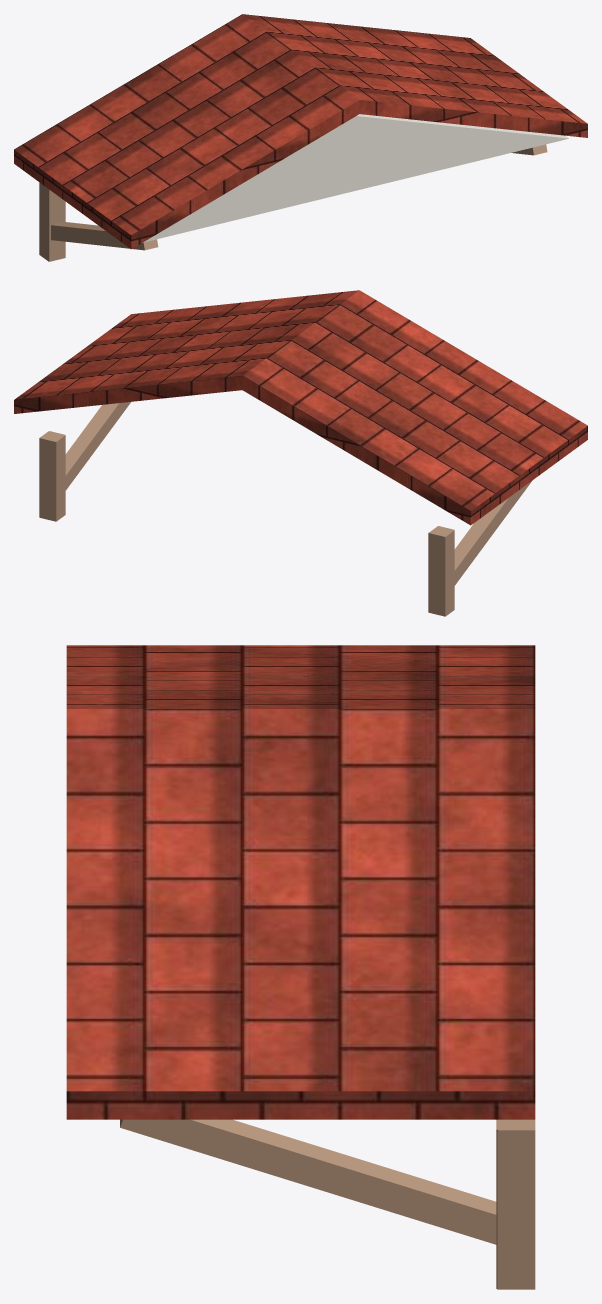
The model's file is entry_hood.glb.
The picture shows the model from 3 angles, top to bottom: view 1: azimuth 30°, elevation 25°; view 2: azimuth 150°, elevation 25°; view 3: azimuth 270°, elevation 25°; orthographic projection. The views are drawn at different scales.
Parts seen in each view (by area): view 1: entry_hood_roof, entry_hood_trim, entry_hood_wood; view 2: entry_hood_roof, entry_hood_wood; view 3: entry_hood_roof, entry_hood_wood.
Boxes of the visible parts, bbox=[...] form: entry_hood_roof: bbox=[14, 14, 587, 249]; entry_hood_trim: bbox=[143, 114, 568, 242]; entry_hood_wood: bbox=[39, 144, 547, 261]; entry_hood_roof: bbox=[14, 290, 587, 525]; entry_hood_wood: bbox=[39, 402, 532, 616]; entry_hood_roof: bbox=[66, 645, 535, 1119]; entry_hood_wood: bbox=[120, 1119, 535, 1289].
Size of the model in its own units: 2.7 by 1.08 by 1.2.
Materials: 3 (1 with a texture image).
